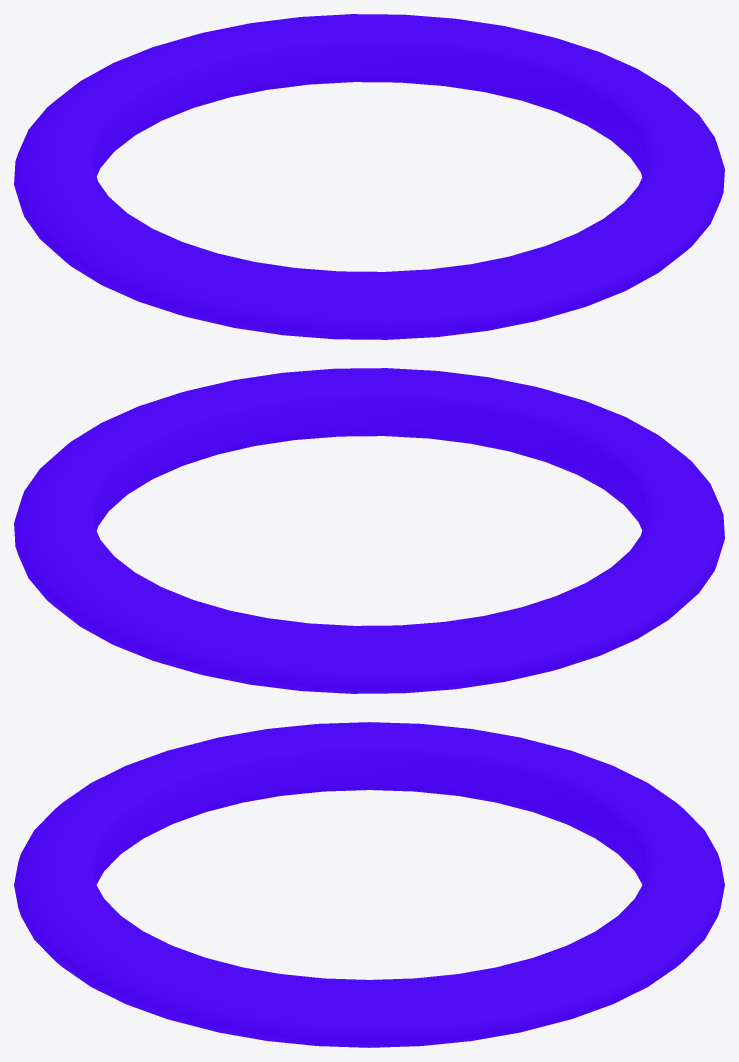
Rendered from mdl_chazzyb_emissivering_purple.glb.
3 renders of one model, top to bottom at view 1: azimuth 30°, elevation 25°; view 2: azimuth 150°, elevation 25°; view 3: azimuth 270°, elevation 25°, orthographic.
Parts seen in each view (by area): view 1: pTorus2; view 2: pTorus2; view 3: pTorus2.
Boxes of the visible parts, bbox=[...] form: pTorus2: bbox=[14, 14, 724, 339]; pTorus2: bbox=[14, 368, 724, 693]; pTorus2: bbox=[14, 722, 724, 1047].
Bounding box in the file's own units: 7.5 × 0.6512 × 7.5.
